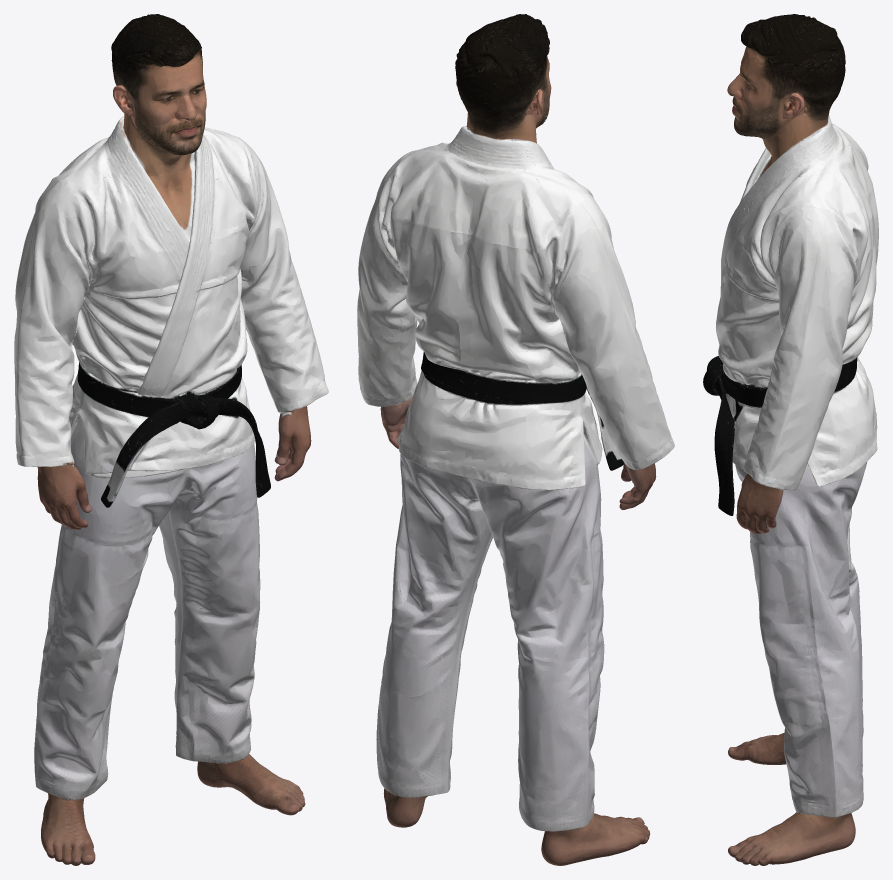
File: demo-bjj-gi-men.glb
3 views of the same model, side by side, from view 1: azimuth 30°, elevation 25°; view 2: azimuth 150°, elevation 25°; view 3: azimuth 270°, elevation 25° (orthographic).
Bounding box in the file's own units: 0.761 × 1.9 × 0.3838.
1 material, 1 textured.
